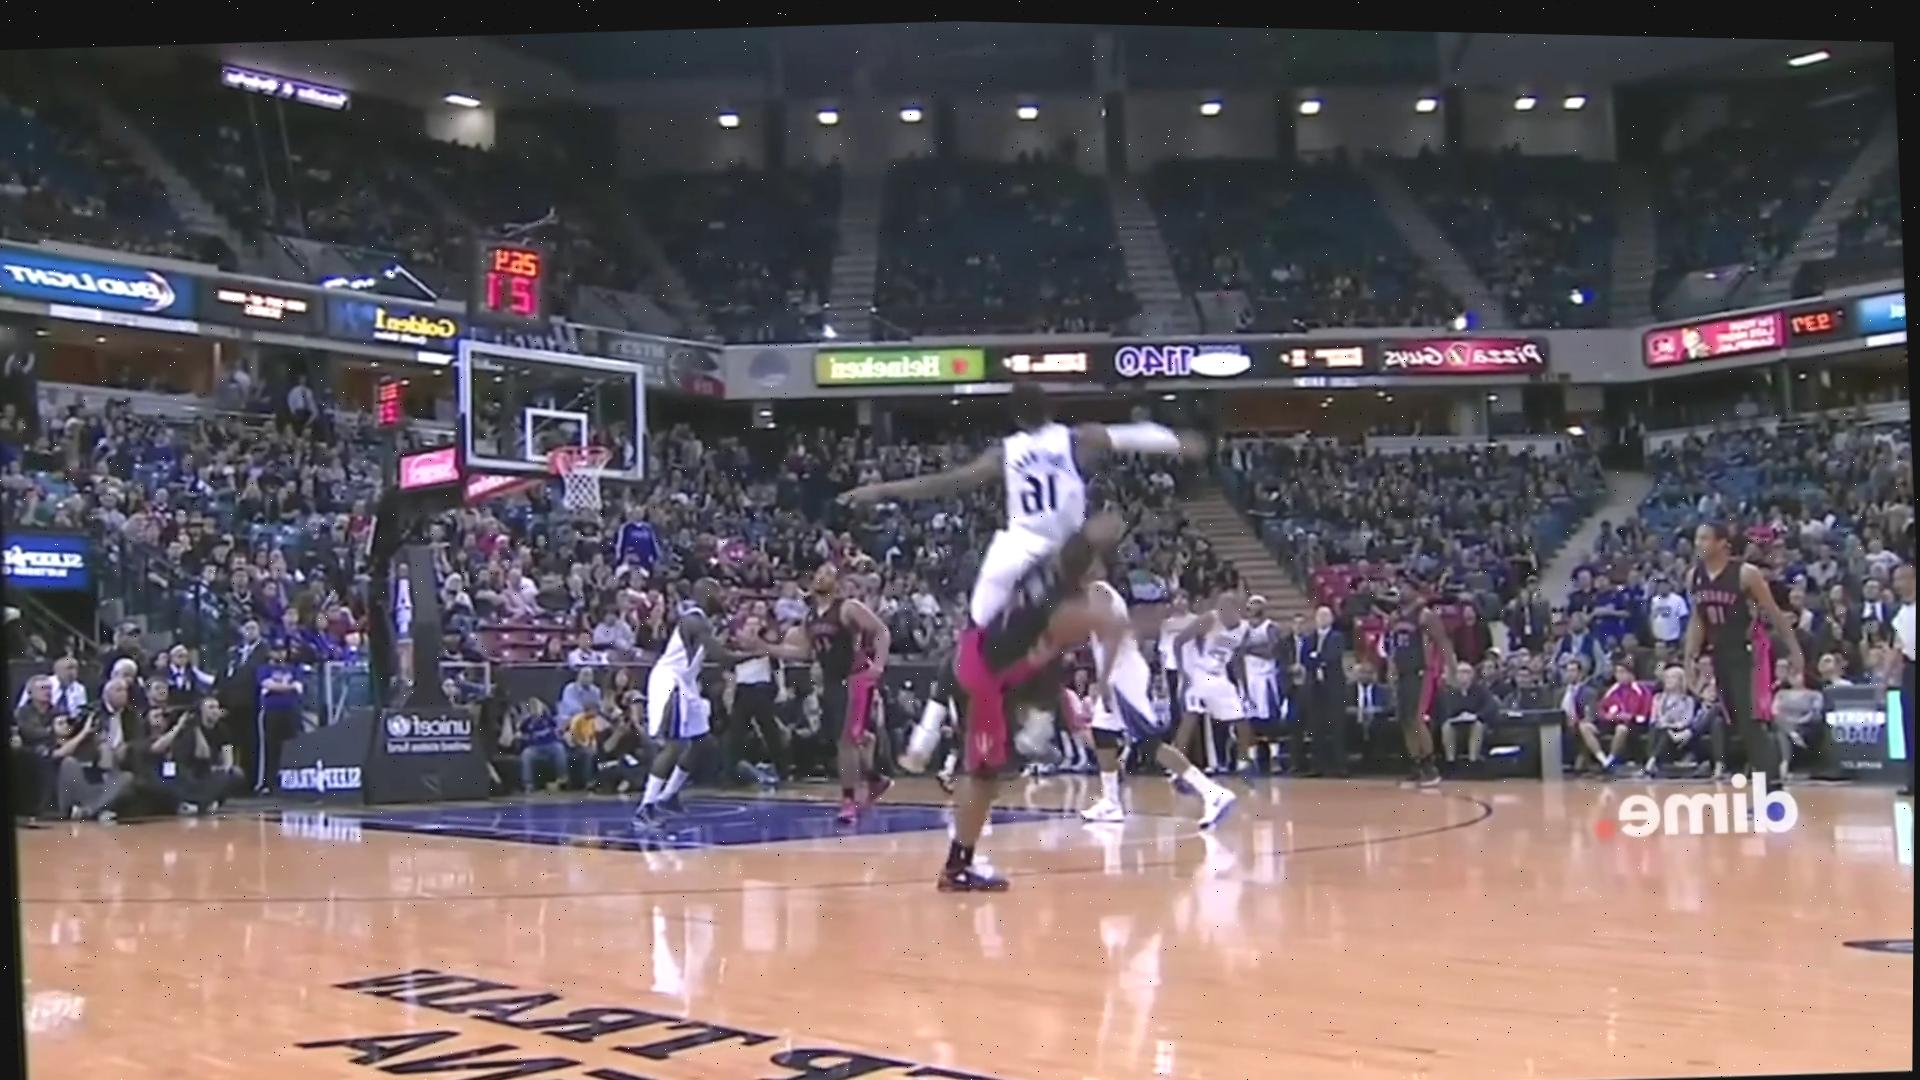foul: (873, 371, 1154, 890)
